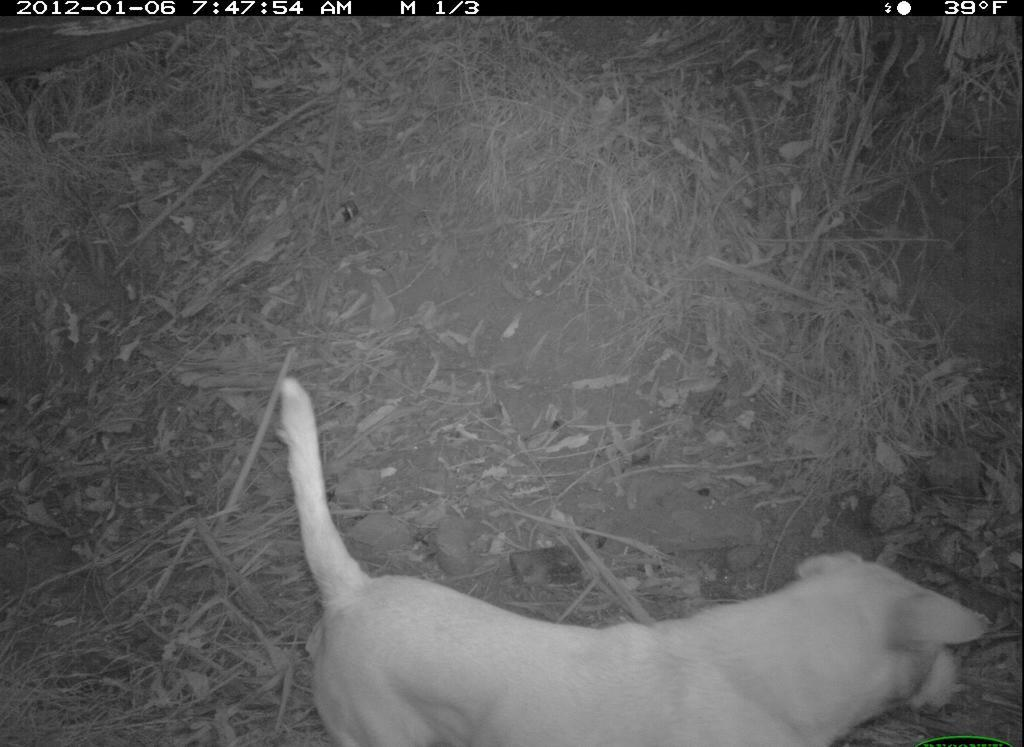dog: (275, 368, 1002, 747)
